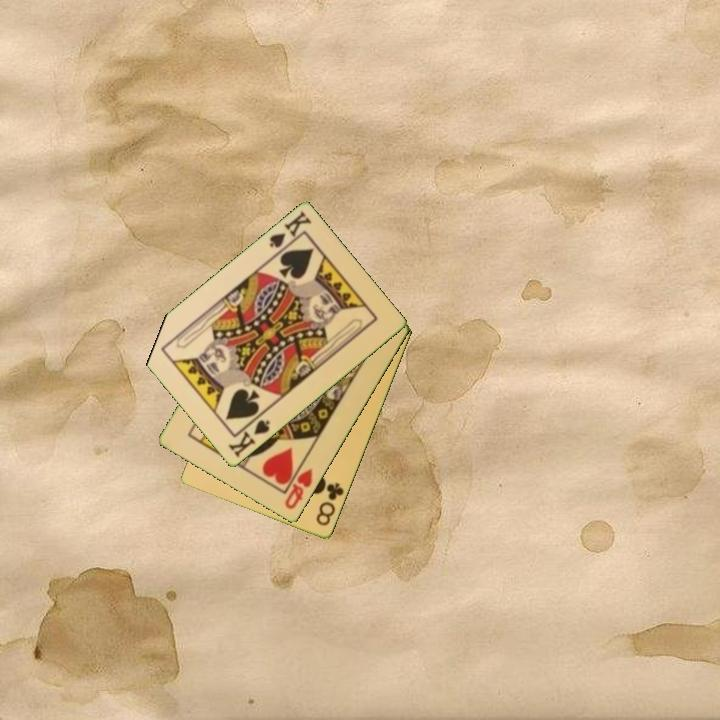8c: (313, 479, 347, 529)
Ks: (265, 208, 314, 258), (225, 411, 273, 461)
Qh: (281, 465, 316, 512)
